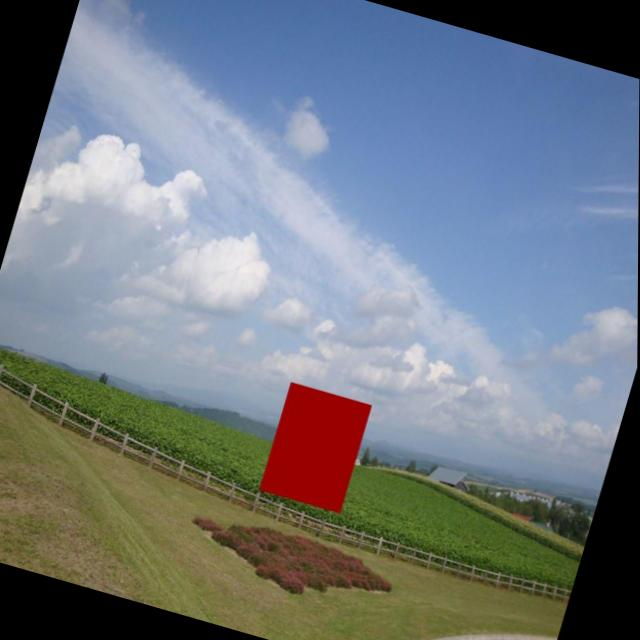RedSquare: (251, 372, 387, 526)
